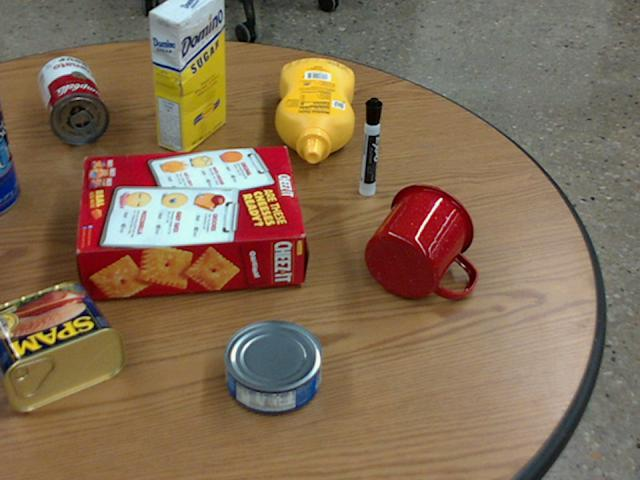cracker_box: (79, 147, 306, 300)
large_marker: (360, 97, 382, 195)
master_chef_can: (0, 101, 19, 213)
mug: (366, 183, 477, 298)
mustard_bottle: (275, 59, 354, 162)
potted_meat_can: (0, 280, 123, 410)
sugar_box: (149, 0, 225, 154)
tomato_soup_can: (38, 57, 108, 144)
tuna_fish_can: (223, 319, 321, 414)
